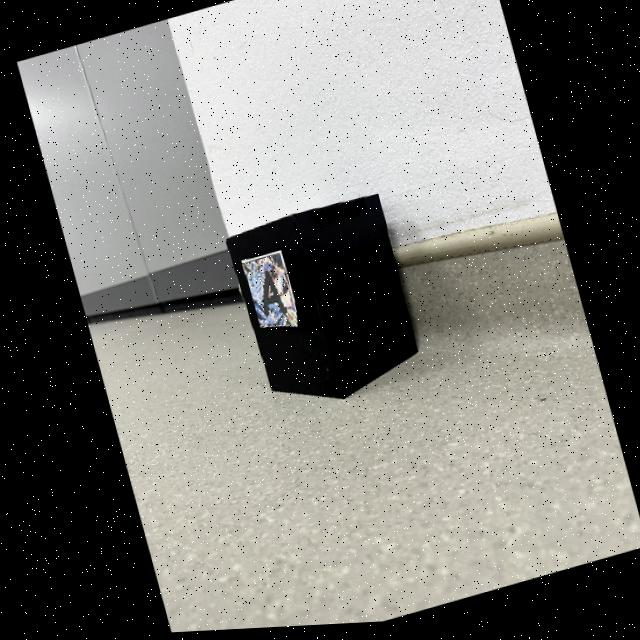A: (261, 273, 284, 319)
